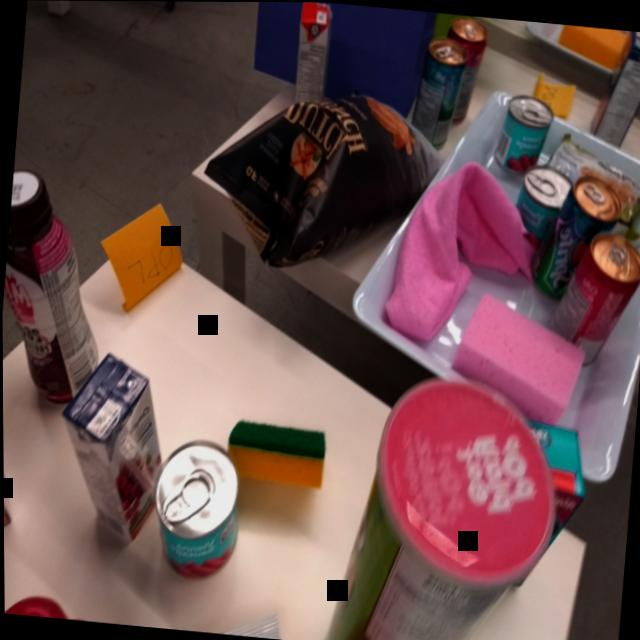chocolate_drink: (1, 162, 112, 410)
coke: (544, 220, 640, 366), (440, 13, 492, 128)
grape_juice: (47, 345, 173, 554)
orange_juice: (287, 2, 339, 110)
potato_chips: (194, 75, 447, 284)
pringles: (317, 366, 567, 640)
sausages: (144, 433, 247, 585), (506, 162, 576, 251), (488, 90, 558, 177)
scrubby: (220, 417, 330, 488)
sprite: (529, 171, 624, 306), (406, 33, 470, 149)
